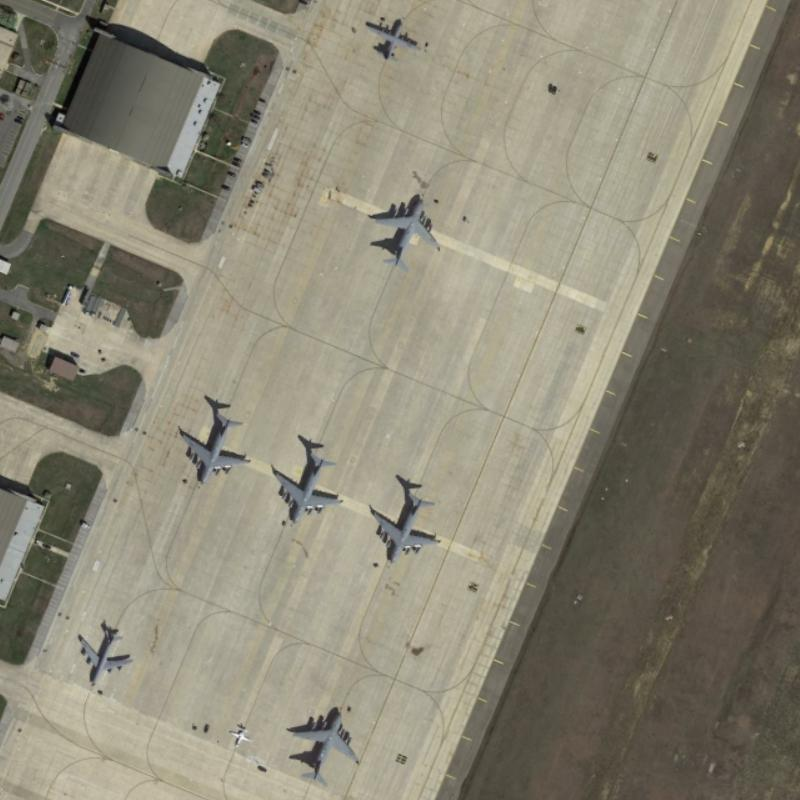A14: (74, 622, 134, 686)
A2: (363, 15, 423, 63)
A3: (288, 707, 362, 788), (368, 486, 443, 565), (368, 193, 442, 273), (179, 408, 253, 487), (270, 448, 344, 525)
